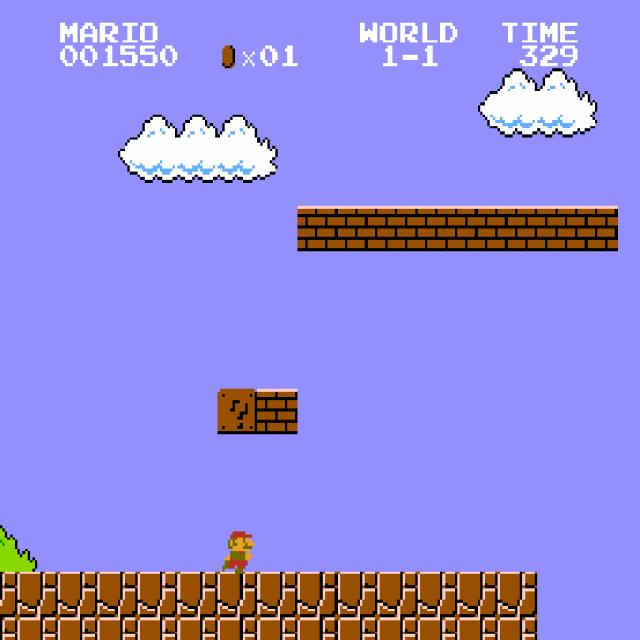brick_block: (257, 389, 298, 434), (297, 206, 338, 251), (337, 206, 378, 251), (377, 206, 418, 251), (417, 206, 458, 251), (457, 206, 498, 251), (497, 206, 538, 251), (537, 206, 578, 251), (577, 206, 618, 251)
little_mario: (215, 526, 257, 574)
mystery_block: (217, 389, 258, 434)
undestructible_block: (17, 572, 58, 617), (57, 572, 98, 617), (97, 572, 138, 617), (137, 572, 178, 617), (177, 572, 218, 617), (217, 572, 258, 617), (257, 572, 298, 617), (297, 572, 338, 617), (337, 572, 378, 617), (377, 572, 418, 617), (417, 572, 458, 617), (457, 572, 498, 617), (497, 572, 538, 617), (17, 617, 58, 640), (57, 617, 98, 640), (97, 617, 138, 640), (137, 617, 178, 640), (177, 617, 218, 640), (217, 617, 258, 640), (257, 617, 298, 640), (297, 617, 338, 640), (337, 617, 378, 640), (377, 617, 418, 640), (417, 617, 458, 640), (457, 617, 498, 640), (497, 617, 538, 640), (0, 571, 17, 617), (0, 617, 17, 639)
